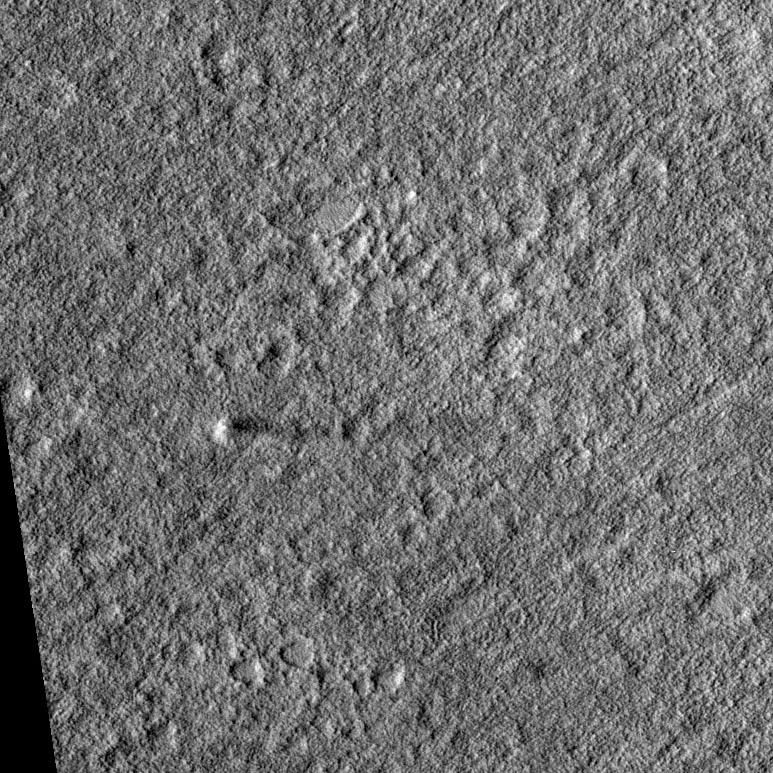dust_devil: (210, 412, 366, 448)
